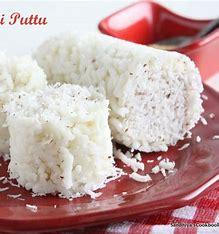Pittu: (7, 31, 213, 202)
